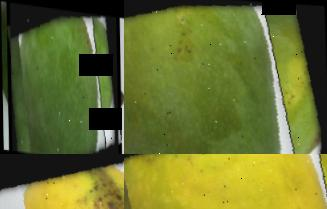PartiallyRipe: (124, 154, 327, 209)
Ripe: (0, 154, 124, 209)
Unripe: (124, 0, 327, 154), (9, 1, 120, 154)
